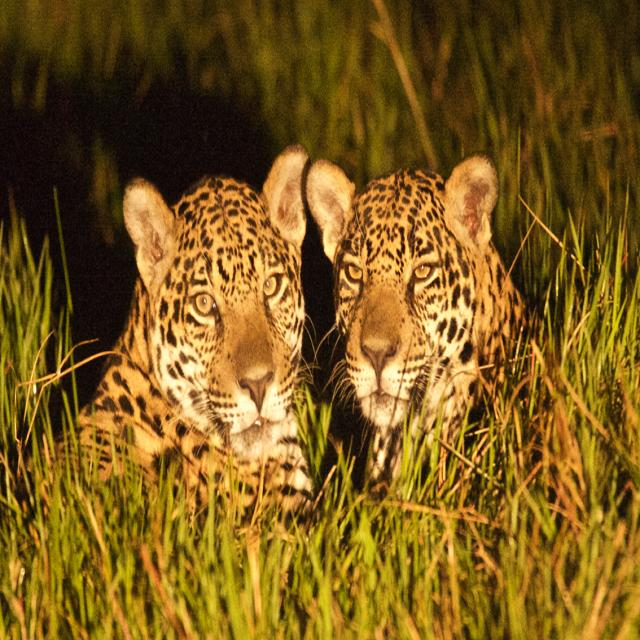Jaguar: (44, 142, 306, 508), (304, 153, 548, 494)
